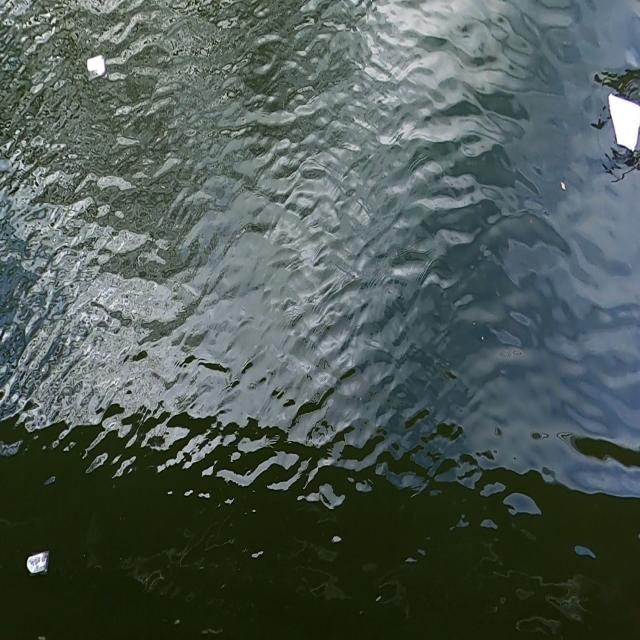Autre plastique: (603, 89, 640, 159)
